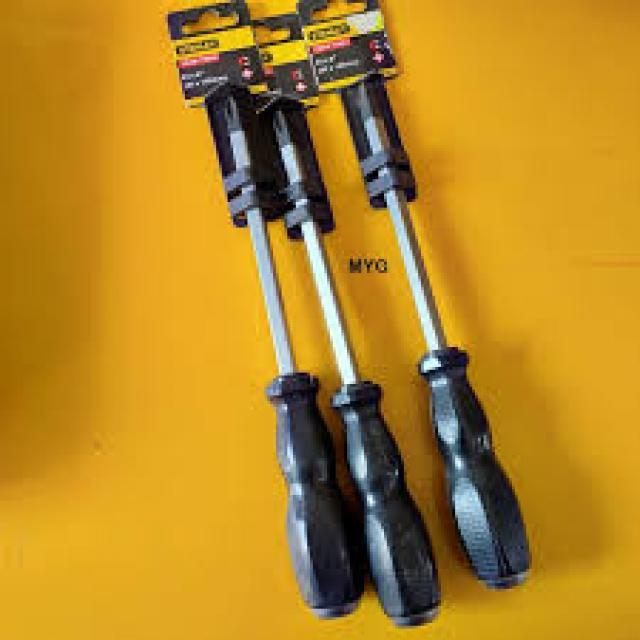screwdriver: (350, 76, 532, 594), (270, 104, 447, 630), (222, 94, 364, 620)
